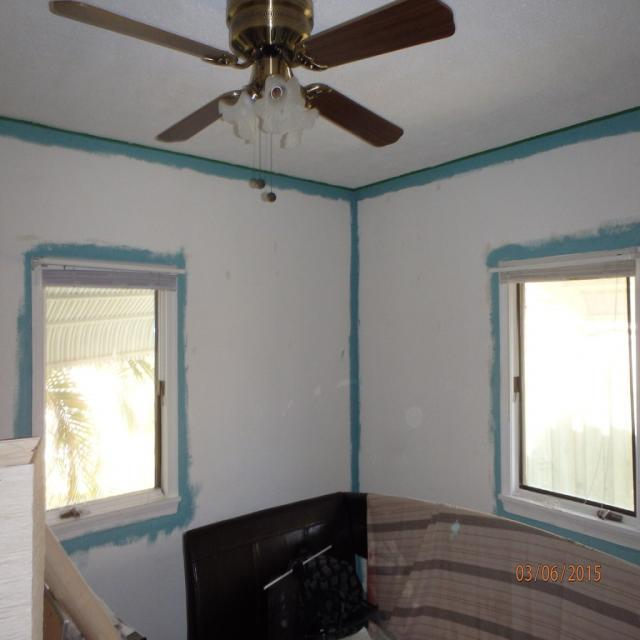bulb_off: (256, 76, 299, 134), (220, 92, 254, 138), (302, 104, 316, 144)
fan_off: (42, 0, 456, 151)
